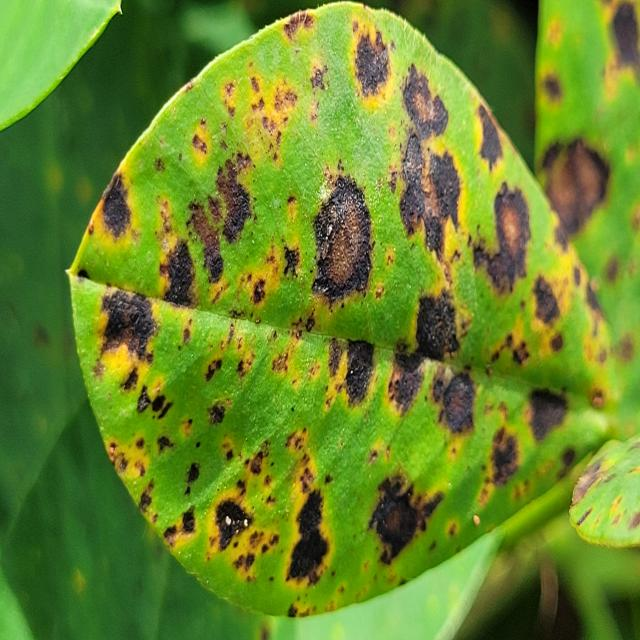Ground nut_tikka leaf spot: (64, 0, 615, 613), (533, 0, 640, 395), (568, 442, 640, 546)
